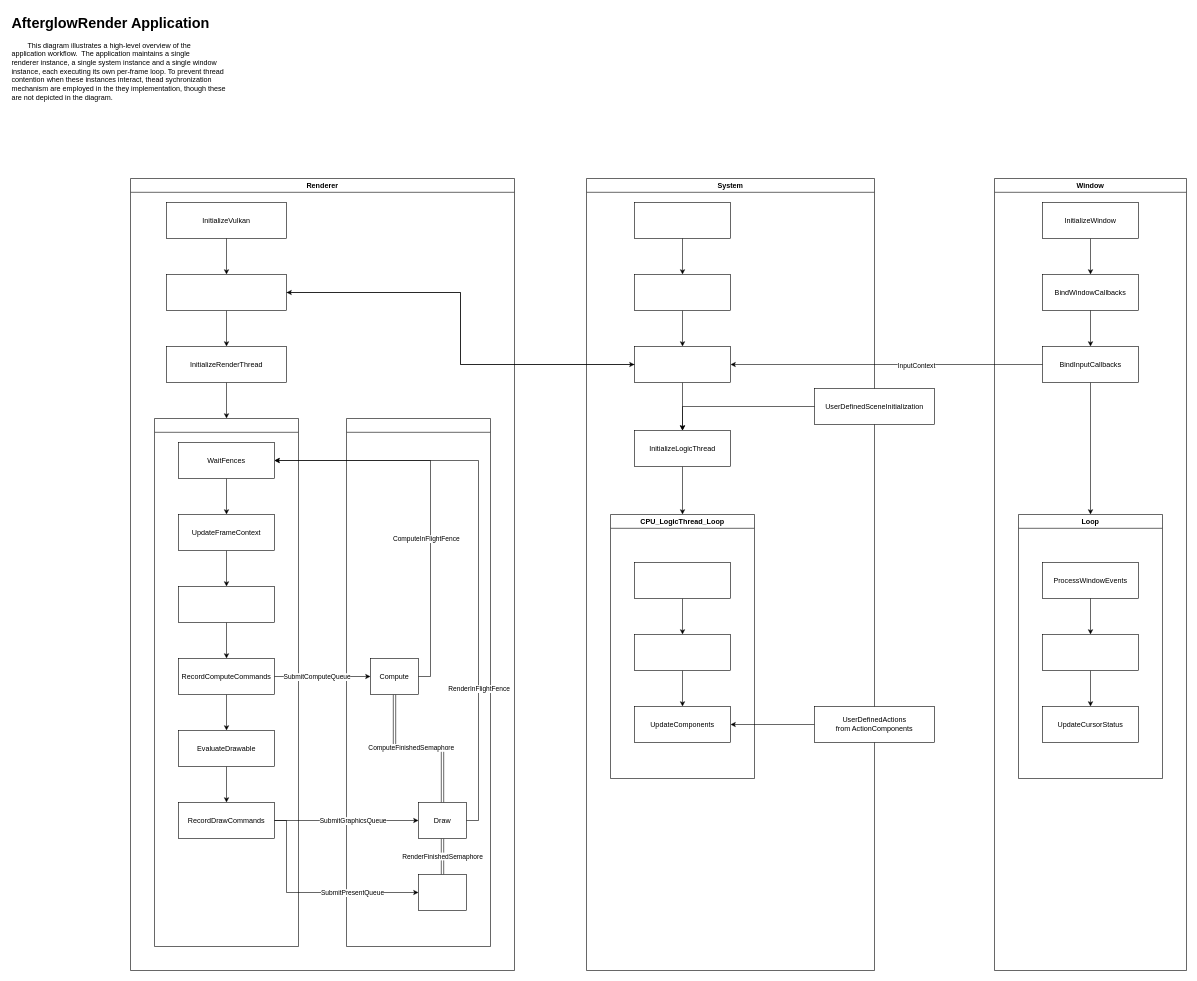
Image size: 1197x981. Some labels were removed from this diagram. The shapes that lost their labels are listed below. From the top down, each one's box as (x1, y1, x2, y2) in pixels, then its label:
(634, 202, 730, 238): InitializeSystem
(166, 274, 286, 310): BindRenderableContext
(634, 274, 730, 310): InitializeComponentPool
(634, 346, 730, 382): BindContext
(634, 562, 730, 598): UpdateClock
(178, 586, 274, 622): EvaluateCompute
(634, 634, 730, 670): UpdateInputContext
(1042, 634, 1138, 670): WaitIdle
(154, 418, 298, 946): CPU_RenderThread_Loop
(346, 418, 490, 946): GPU_Device
(418, 874, 466, 910): Present
